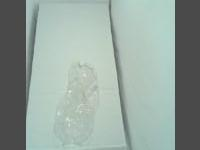bottle: (49, 60, 101, 150)
